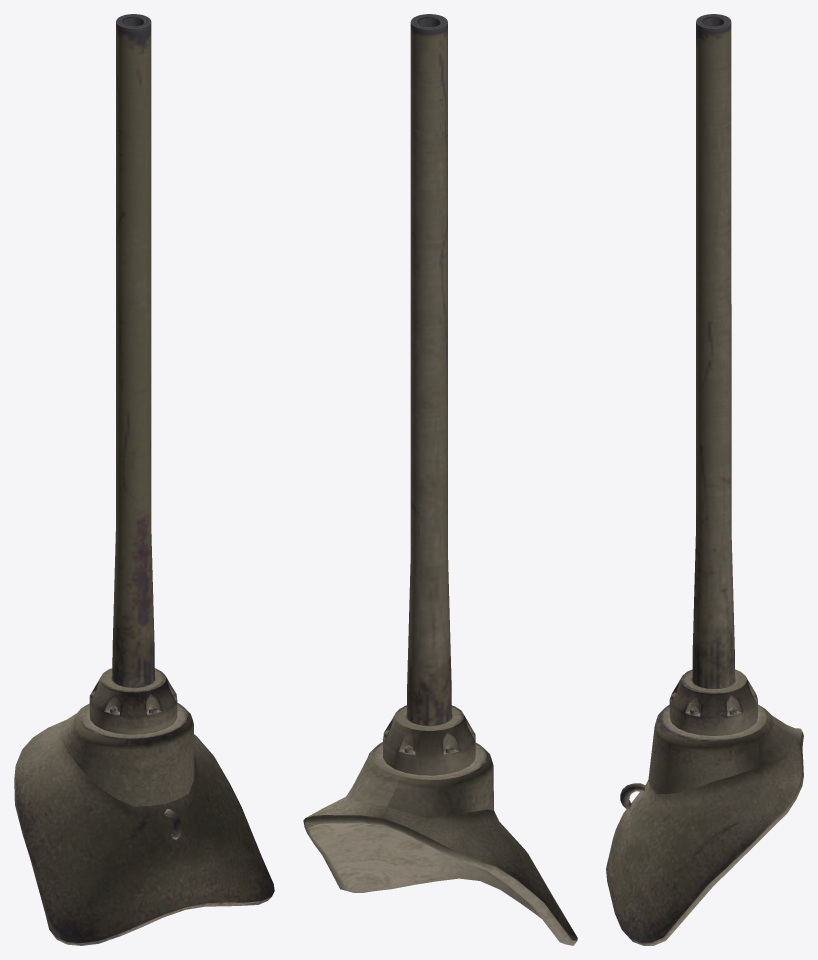
The model's file is Gun_01.glb.
3 views of the same model, side by side, from view 1: azimuth 30°, elevation 25°; view 2: azimuth 150°, elevation 25°; view 3: azimuth 270°, elevation 25° (orthographic). The views are drawn at different scales.
Visible parts, largest first — view 1: set_0_group_0; view 2: set_0_group_0; view 3: set_0_group_0.
Boxes of the visible parts, x1=… form: set_0_group_0: x1=14, y1=14, x2=274, y2=945; set_0_group_0: x1=303, y1=14, x2=577, y2=945; set_0_group_0: x1=606, y1=14, x2=803, y2=945.
Bounding box in the file's own units: 1.06 × 4.02 × 0.8244.
1 material, 1 textured.
